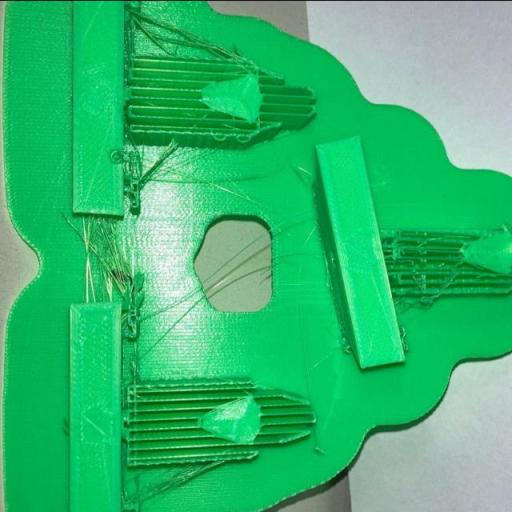stringing: (128, 3, 251, 67), (81, 220, 130, 300), (137, 142, 183, 194)
